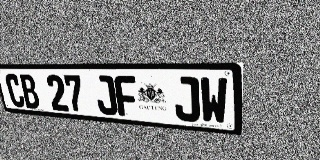2: (45, 75, 69, 111)
7: (62, 75, 86, 113)
B: (18, 74, 41, 109)
C: (4, 74, 26, 108)
F: (114, 76, 139, 117)
J: (173, 77, 200, 122), (93, 75, 118, 116)
W: (200, 77, 228, 125)
